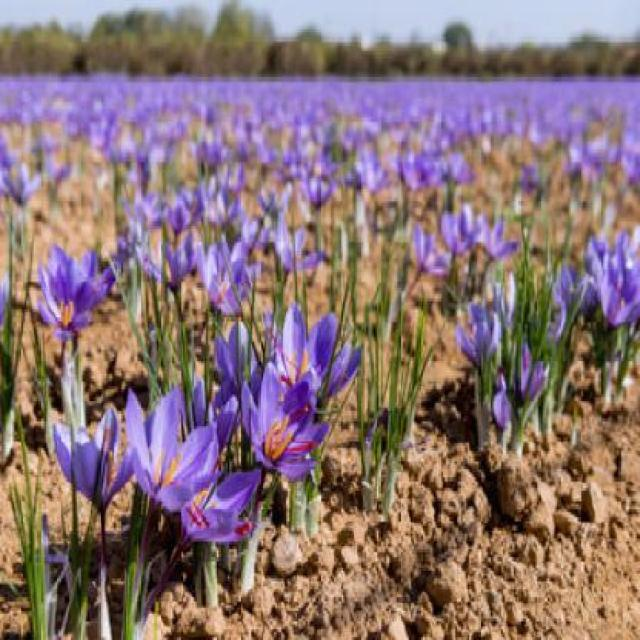Flower: (117, 391, 218, 503), (228, 370, 323, 478), (53, 411, 144, 504), (279, 309, 365, 405), (35, 249, 114, 325), (195, 244, 258, 314), (268, 215, 328, 276), (454, 304, 506, 364), (600, 258, 640, 329), (406, 220, 448, 286), (470, 211, 515, 267), (292, 170, 339, 205)
stigma: (274, 438, 322, 458), (284, 402, 314, 430), (277, 375, 302, 405), (183, 505, 205, 530), (192, 506, 214, 529), (233, 522, 254, 542)
